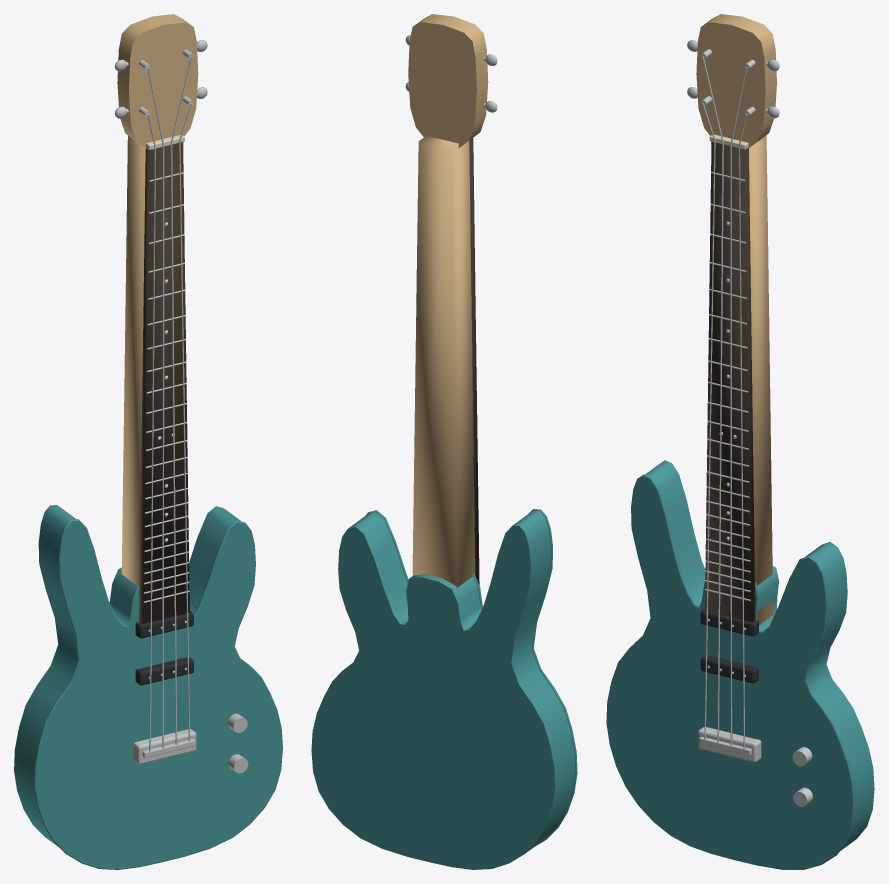
Rendered from guitar_electric_bass.glb.
3 renders of one model, left to right at view 1: azimuth 30°, elevation 25°; view 2: azimuth 150°, elevation 25°; view 3: azimuth 330°, elevation 25°, orthographic.
Parts seen in each view (by area): view 1: ElectricBass_Solid_Body, ElectricBass_Fingerboard, ElectricBass_Four_Tuner_Headstock, ElectricBass_Wooden_Neck, ElectricBass_Body_Edge_Line, ElectricBass_String.001, ElectricBass_String.002, ElectricBass_String.003, ElectricBass_String, ElectricBass_Metal_Bridge, ElectricBass_Pickup, ElectricBass_Pickup.001; view 2: ElectricBass_Solid_Body, ElectricBass_Wooden_Neck, ElectricBass_Four_Tuner_Headstock, ElectricBass_Fingerboard, ElectricBass_Body_Edge_Line; view 3: ElectricBass_Solid_Body, ElectricBass_Fingerboard, ElectricBass_Four_Tuner_Headstock, ElectricBass_Wooden_Neck, ElectricBass_Body_Edge_Line, ElectricBass_String.001, ElectricBass_String.002, ElectricBass_String, ElectricBass_String.003, ElectricBass_Metal_Bridge, ElectricBass_Pickup, ElectricBass_Pickup.001.
Part boxes in pixels (x1,y1,x2,y2): ElectricBass_Solid_Body: [14, 505, 282, 868]; ElectricBass_Fingerboard: [139, 142, 189, 624]; ElectricBass_Four_Tuner_Headstock: [117, 14, 198, 148]; ElectricBass_Wooden_Neck: [121, 136, 145, 615]; ElectricBass_Body_Edge_Line: [34, 519, 282, 869]; ElectricBass_String.001: [147, 67, 164, 748]; ElectricBass_String.002: [170, 56, 192, 747]; ElectricBass_String.003: [179, 103, 192, 741]; ElectricBass_String: [147, 114, 155, 751]; ElectricBass_Metal_Bridge: [133, 729, 196, 764]; ElectricBass_Pickup: [135, 657, 193, 685]; ElectricBass_Pickup.001: [135, 610, 193, 638]; ElectricBass_Solid_Body: [311, 510, 575, 869]; ElectricBass_Wooden_Neck: [412, 135, 475, 587]; ElectricBass_Four_Tuner_Headstock: [408, 14, 488, 147]; ElectricBass_Fingerboard: [469, 138, 479, 585]; ElectricBass_Body_Edge_Line: [365, 509, 577, 846]; ElectricBass_Solid_Body: [607, 460, 874, 869]; ElectricBass_Fingerboard: [705, 141, 755, 622]; ElectricBass_Four_Tuner_Headstock: [696, 14, 776, 148]; ElectricBass_Wooden_Neck: [749, 135, 773, 624]; ElectricBass_Body_Edge_Line: [606, 474, 854, 869]; ElectricBass_String.001: [702, 56, 723, 745]; ElectricBass_String.002: [730, 67, 747, 745]; ElectricBass_String: [702, 103, 715, 739]; ElectricBass_String.003: [738, 113, 747, 749]; ElectricBass_Metal_Bridge: [698, 727, 761, 762]; ElectricBass_Pickup: [700, 655, 758, 683]; ElectricBass_Pickup.001: [700, 609, 758, 636].
Bounding box in the file's own units: 0.3649 × 1.18 × 0.077.
